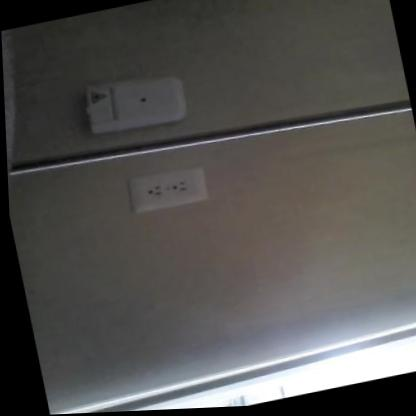OUTLET: (122, 163, 208, 216)
